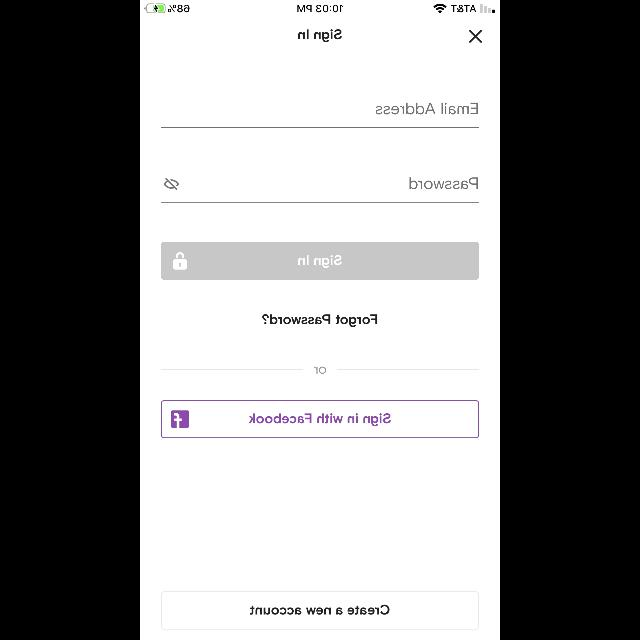icon: (468, 31, 482, 44), (164, 178, 178, 190)
input: (161, 178, 479, 202), (161, 104, 479, 128)
text: (262, 314, 378, 328), (376, 103, 478, 115), (410, 177, 478, 189), (298, 30, 342, 42), (314, 366, 326, 374)
textbutton: (161, 592, 479, 630), (161, 400, 479, 438), (161, 242, 479, 280)
uppertaskbar: (140, 0, 500, 14)
